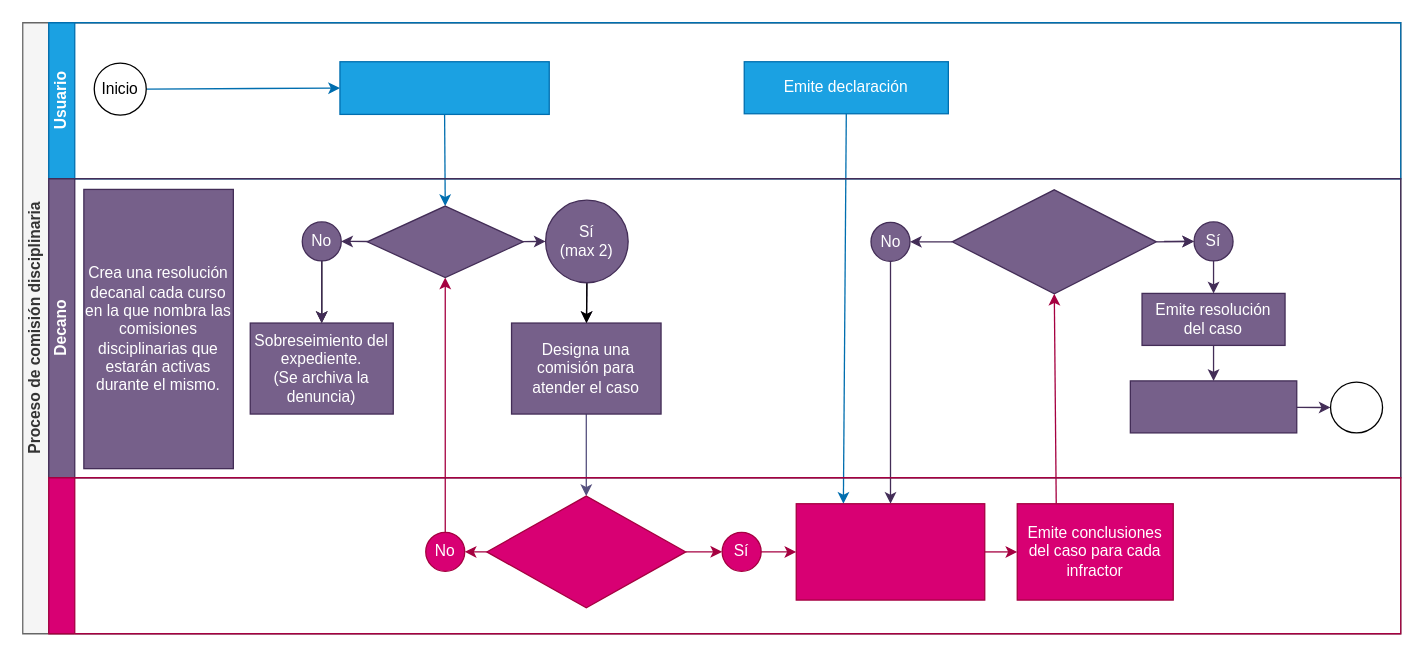
Some shapes in this 1424 by 657 pixel diagram are drawn without their labels. Each missing label, with the box of its shape:
Comisión: (47, 476, 1401, 634)
Emite una denuncia: (339, 60, 549, 114)
Fin: (1329, 381, 1383, 433)
Investiga (recopila información, declaraciones, pruebas, etc.): (795, 502, 985, 600)
Notifica al infractor y a la comisión: (1129, 380, 1297, 433)
¿Procede?: (366, 205, 523, 278)
¿Se aceptan las conclusiones?: (951, 188, 1156, 294)
¿Se puede dar el hecho por probado?: (486, 495, 686, 608)
